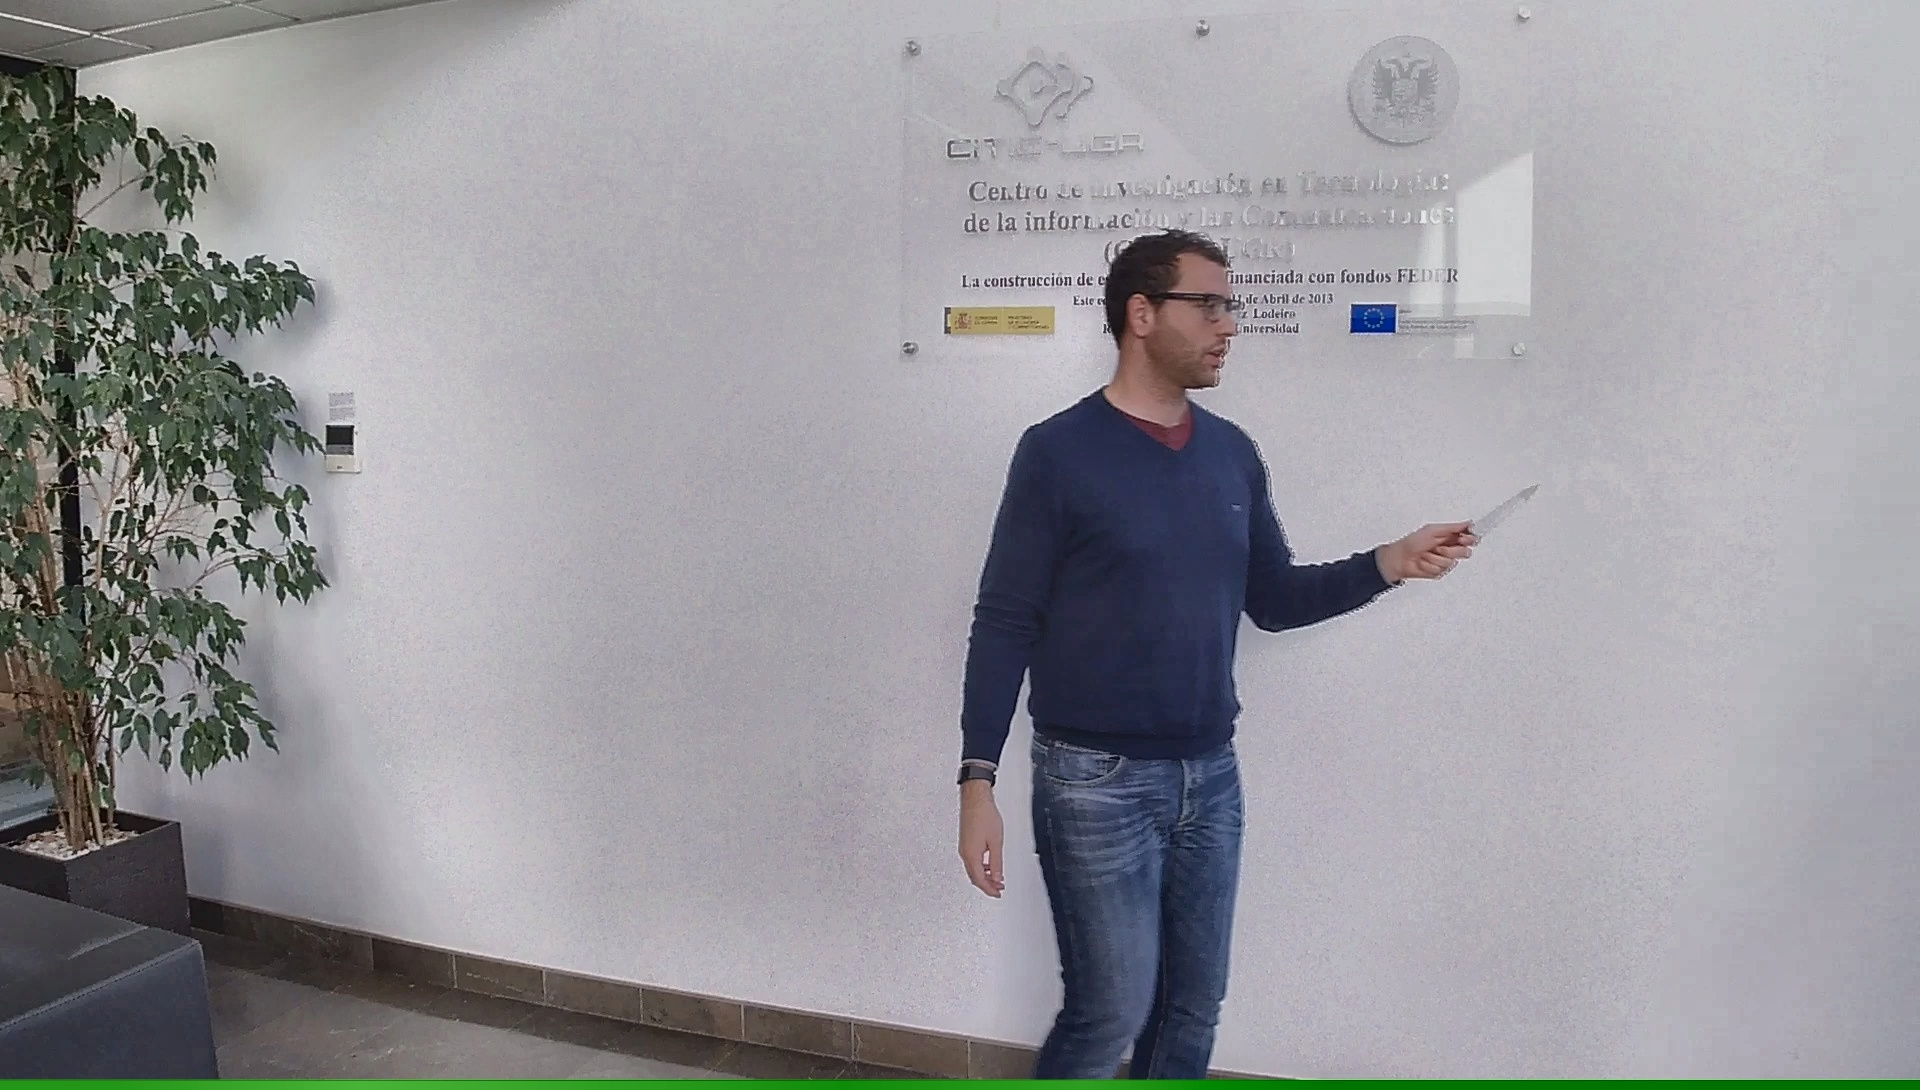knife: (1425, 473, 1548, 567)
